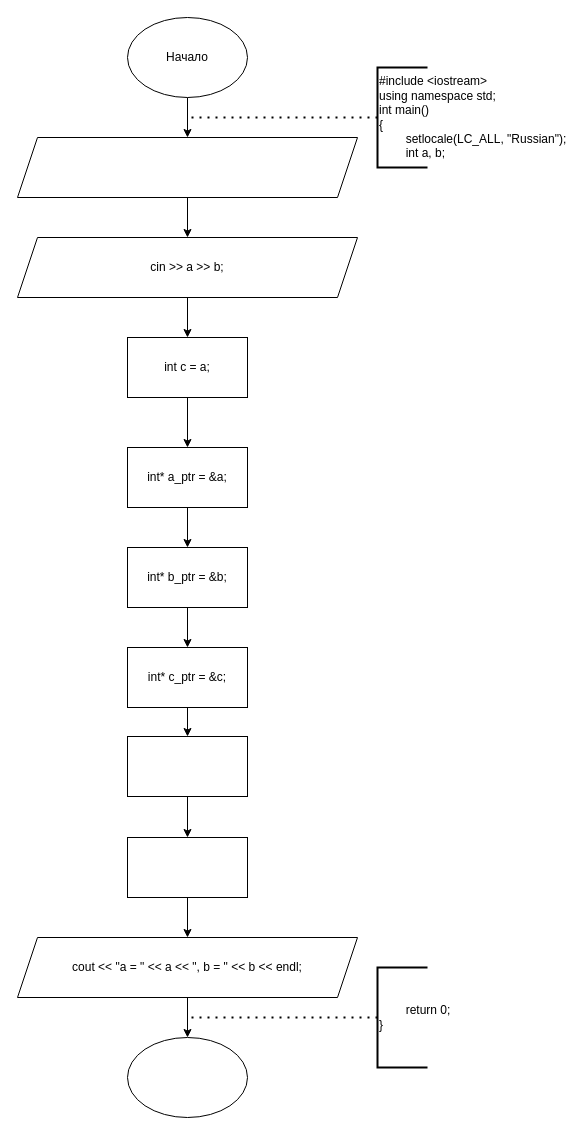
This 584x1135 diagram has some shape labels left out. Here are the shapes that lost their labels. From the top down, the box of each, then its label:
(16, 136, 358, 198): cout << "Введите 2 числа, по одному в каждой строке: \n";
(126, 736, 248, 796): a = *b_ptr;
(126, 836, 248, 898): b = *c_ptr;
(126, 1036, 248, 1118): Конец
